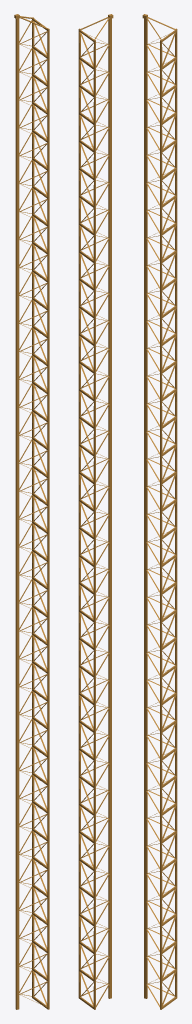
The model's file is Truss_Triangular_67m.glb.
3 views of the same model, side by side, from view 1: azimuth 30°, elevation 25°; view 2: azimuth 210°, elevation 25°; view 3: azimuth 330°, elevation 25° (orthographic).
Visible parts, largest first — view 1: Truss-LOD0; view 2: Truss-LOD0; view 3: Truss-LOD0.
Part boxes in pixels (<box>): Truss-LOD0: <box>14,14,49,1009</box>; Truss-LOD0: <box>78,14,113,1009</box>; Truss-LOD0: <box>142,14,177,1009</box>.
Size of what is drawn, in the model's own units: 1.86 by 67.6 by 2.
